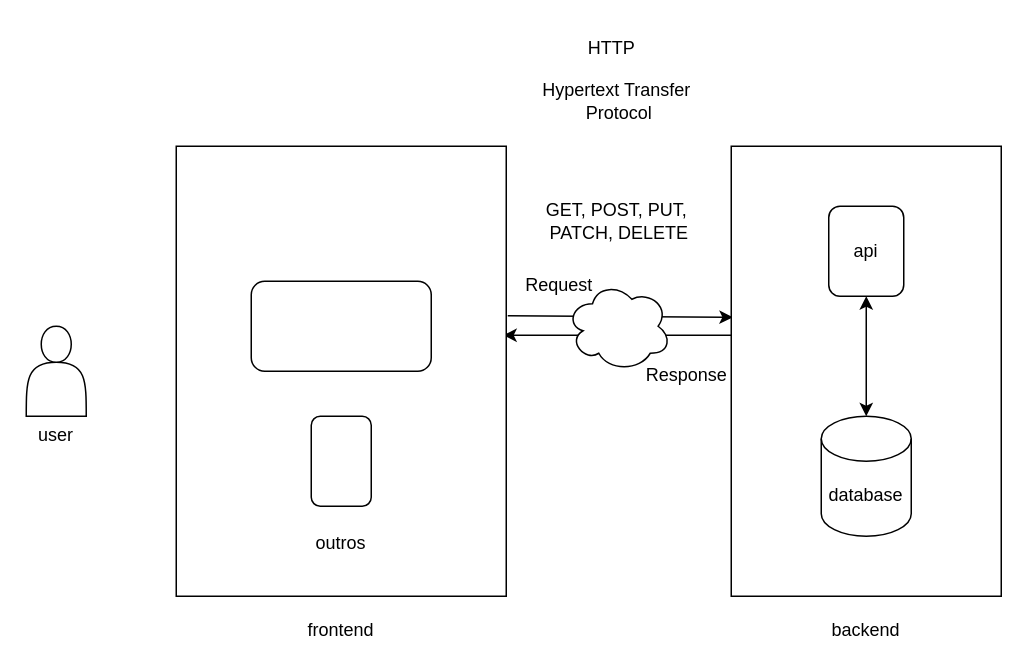
Image size: 1028x666. Some labels were removed from this diagram. The shapes that lost their labels are listed below. From the top down, each one's centre as x and y in pixels, then its label:
pixel 340 325: navegador
pixel 618 325: internet
pixel 340 460: app
